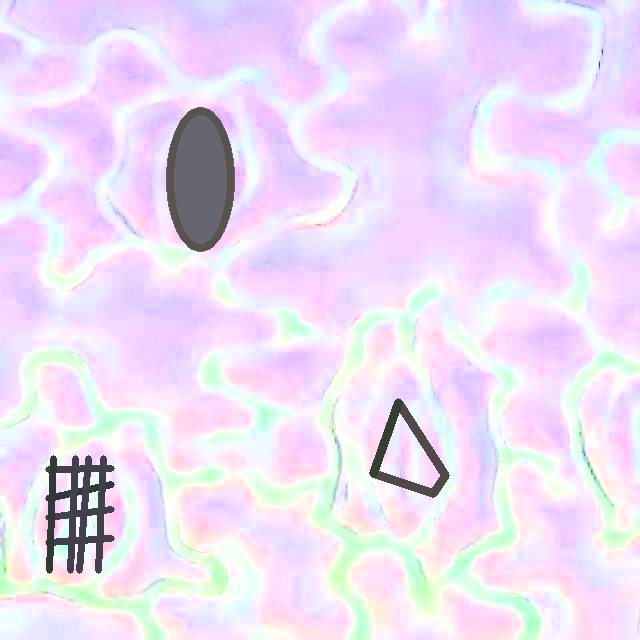close: (165, 107, 234, 251)
open: (45, 455, 114, 573), (369, 398, 449, 497)
